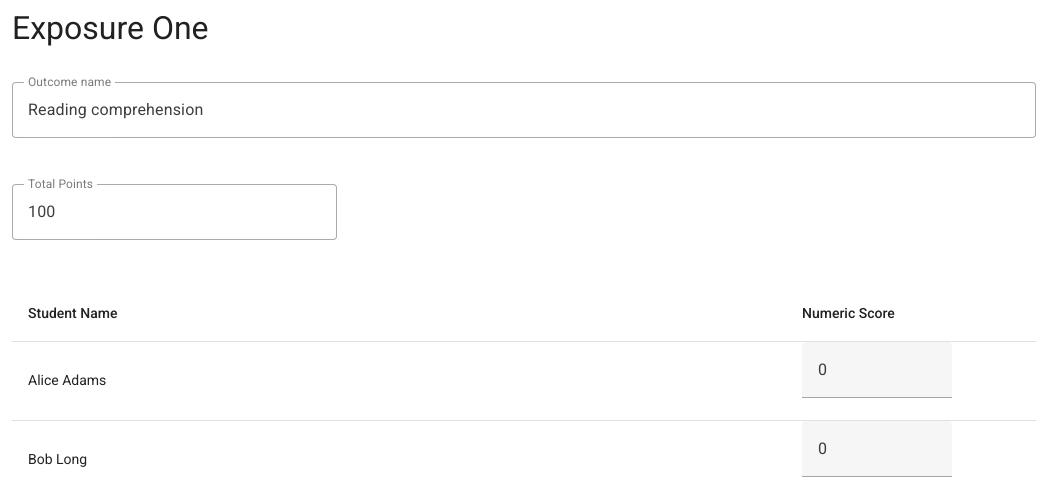
Test: OutcomeScoring › flags a score greater than the total points when the field loses focus
Replace the text in the number field named "2" with "101": [877, 370] box x1=802 y1=342 x2=952 y2=398
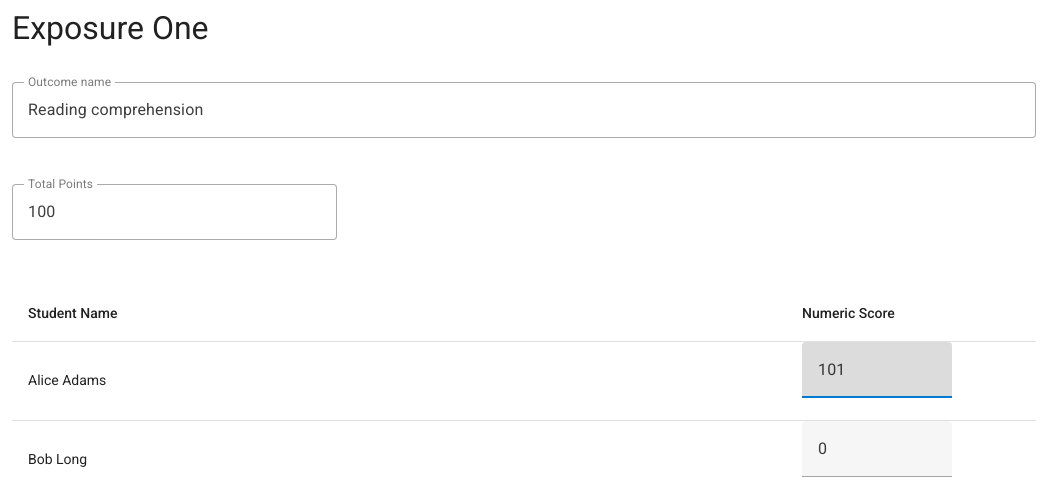
Expected: the text "Score must be ≤ 100" is not shown
Leave the number field named "2", box x1=802 y1=342 x2=952 y2=398
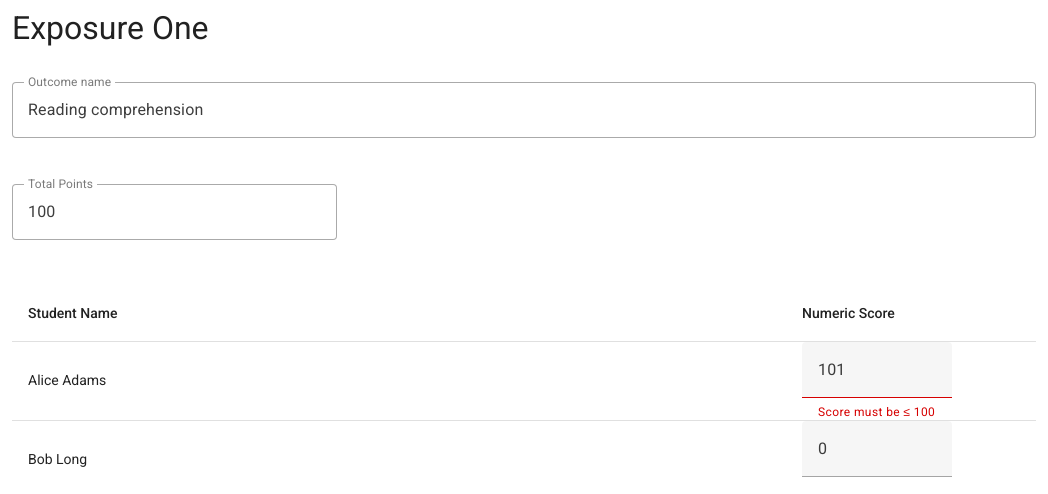
Expected: the text "Score must be ≤ 100" is shown, x1=818 y1=406 x2=936 y2=418
Replace the text in the number field named "2" with "100": [877, 370] box x1=802 y1=342 x2=952 y2=398
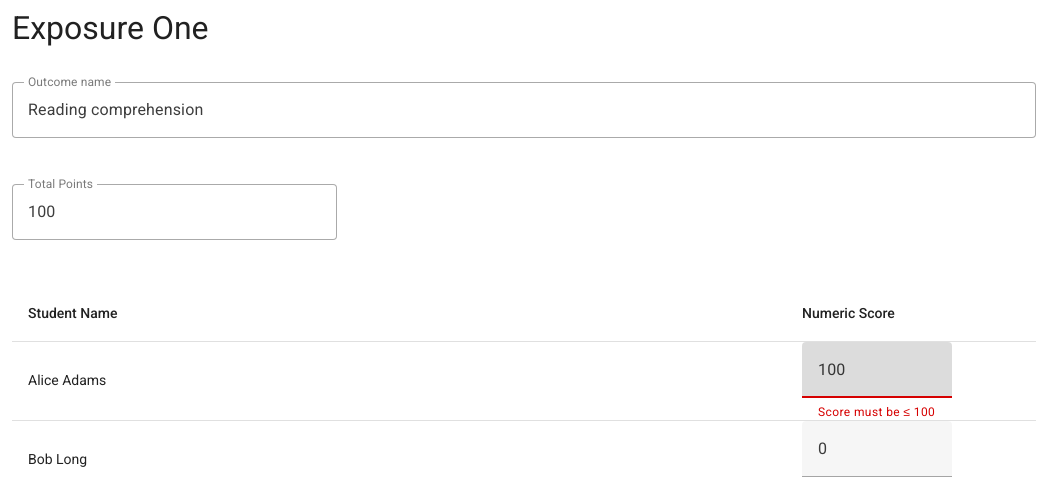
Leave the number field named "2", box x1=802 y1=342 x2=952 y2=398
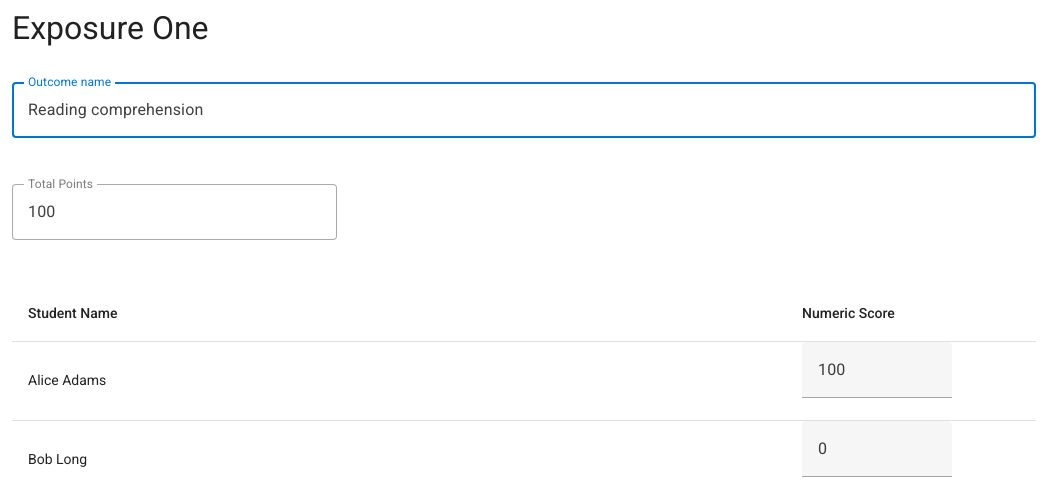
Expected: the text "Score must be ≤ 100" is gone
